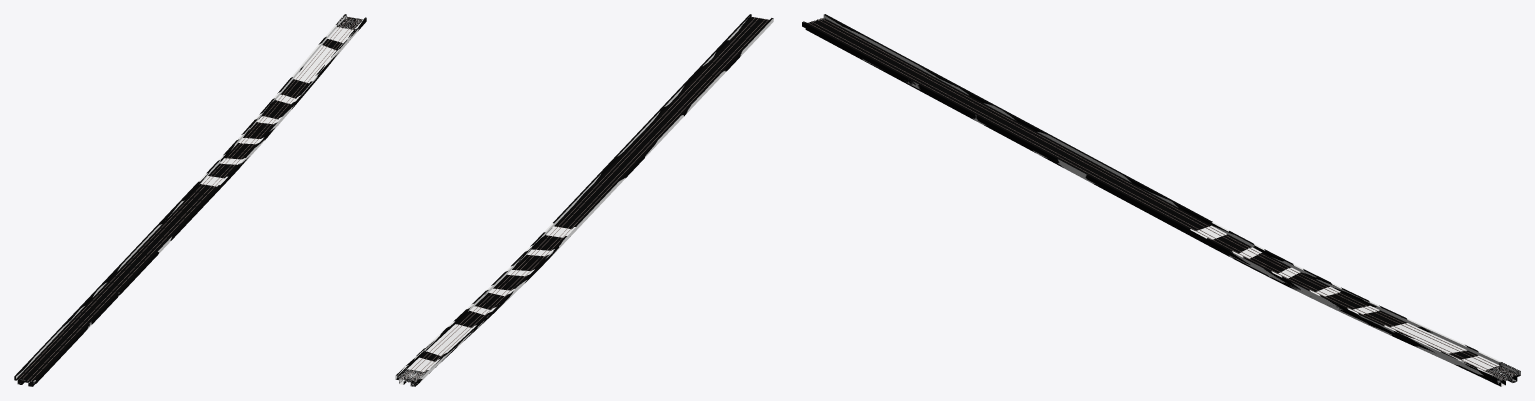
File: elevated_rail_segment4.dae
The picture shows the model from 3 angles, left to right: view 1: azimuth 30°, elevation 25°; view 2: azimuth 210°, elevation 25°; view 3: azimuth 270°, elevation 25°; orthographic projection. The views are drawn at different scales.
Parts seen in each view (by area): view 1: elevated_rail_segment4_a2000, elevated_rail_segment4_a3000; view 2: elevated_rail_segment4_a2000, elevated_rail_segment4_a3000; view 3: elevated_rail_segment4_a2000, elevated_rail_segment4_a3000.
Boxes of the visible parts, bbox=[...] form: elevated_rail_segment4_a2000: bbox=[14, 14, 366, 386]; elevated_rail_segment4_a3000: bbox=[16, 14, 364, 386]; elevated_rail_segment4_a2000: bbox=[396, 14, 773, 386]; elevated_rail_segment4_a3000: bbox=[395, 14, 773, 386]; elevated_rail_segment4_a2000: bbox=[802, 14, 1520, 386]; elevated_rail_segment4_a3000: bbox=[802, 15, 1520, 386].
Size of the model in its own units: 273 by 218 by 8.37.
